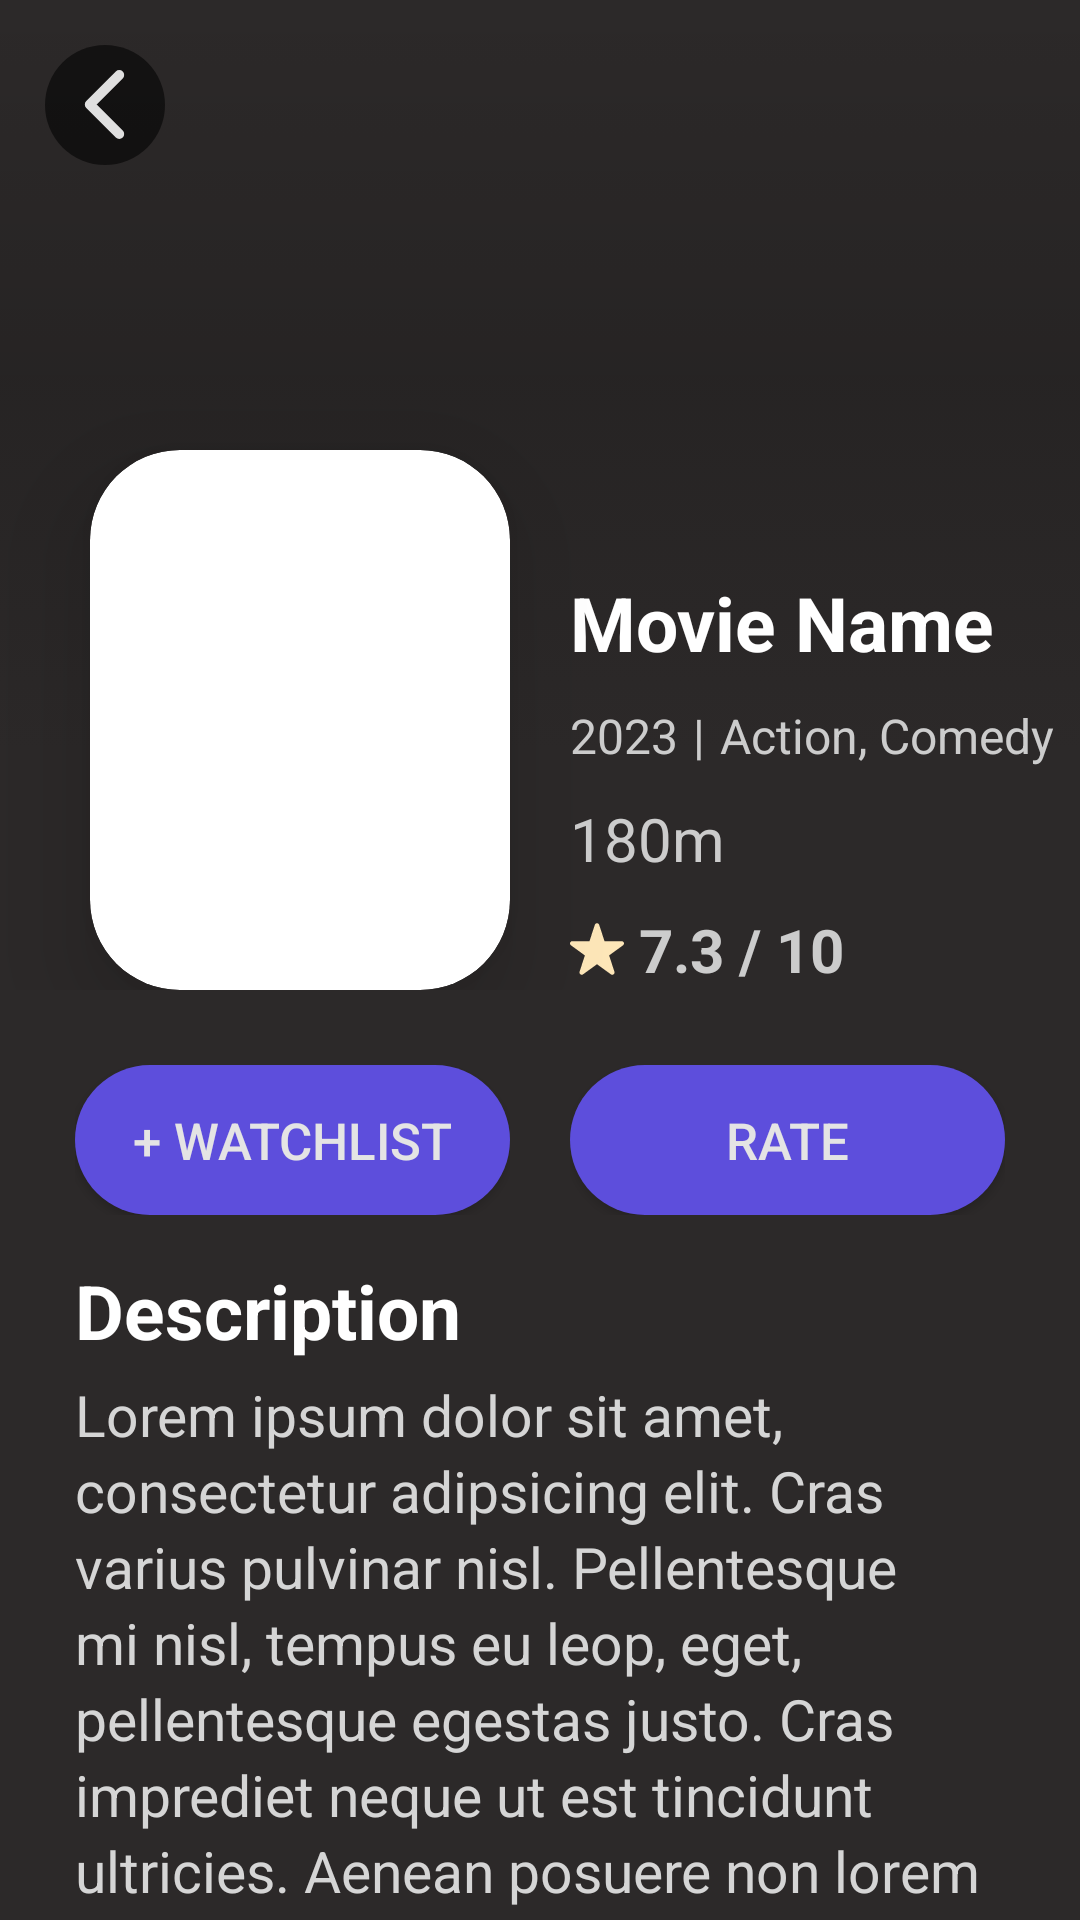

Point at icon controls on the screen. Image size 1080px×1920px, points as point (x, y).
back: point (104, 104)
star: point (597, 949)
